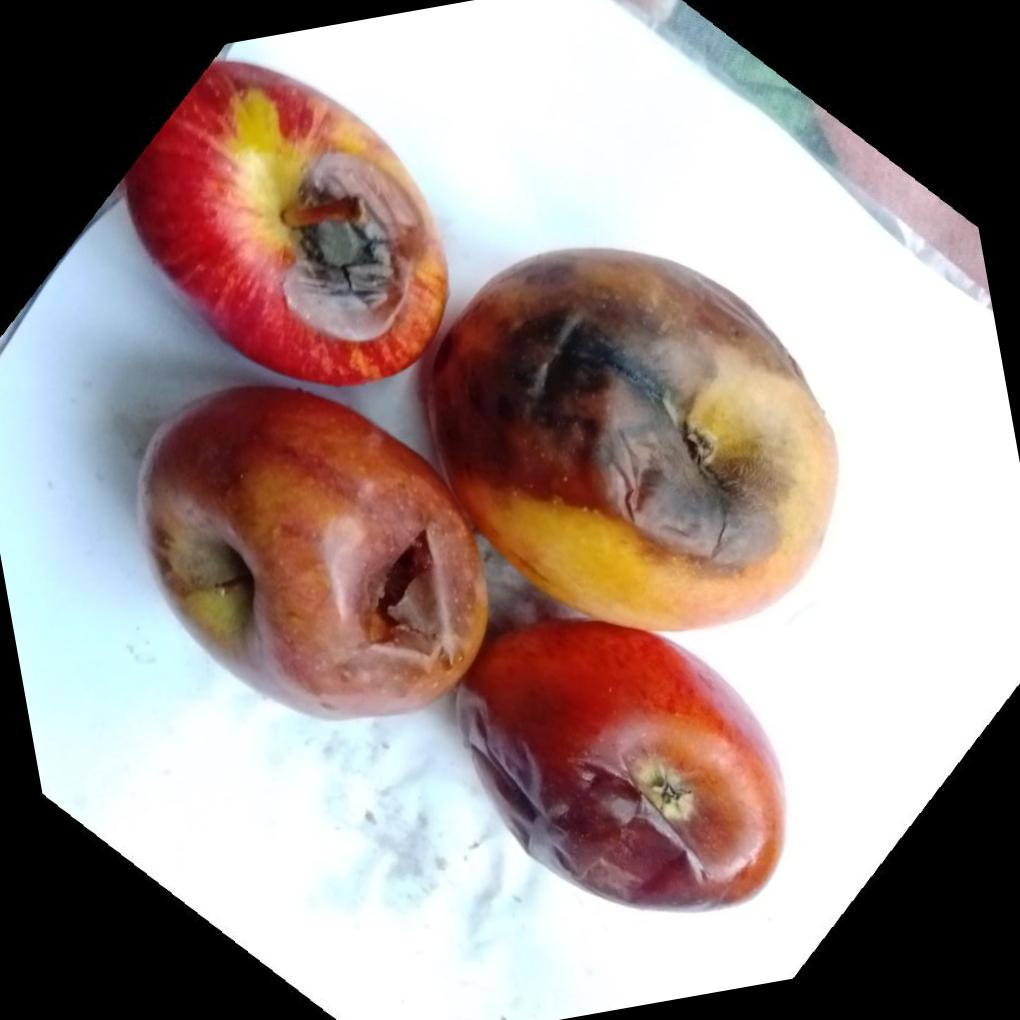FreshOrange: (124, 55, 841, 912)
